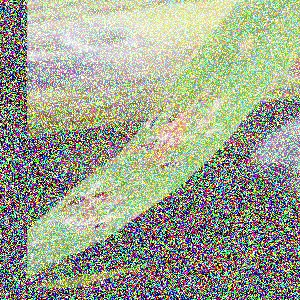Brown_Spot: (150, 89, 211, 131), (66, 166, 115, 215), (69, 206, 118, 255), (134, 130, 181, 157), (147, 154, 186, 180)
